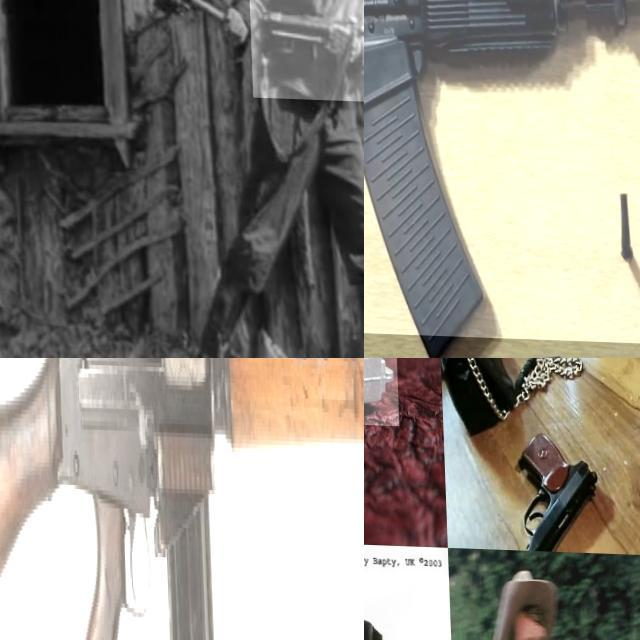gun-knife-thesis - v11 Yolov5 augmented: (0, 358, 364, 640), (364, 0, 640, 341), (364, 358, 504, 445), (247, 0, 364, 99), (512, 426, 596, 548)
